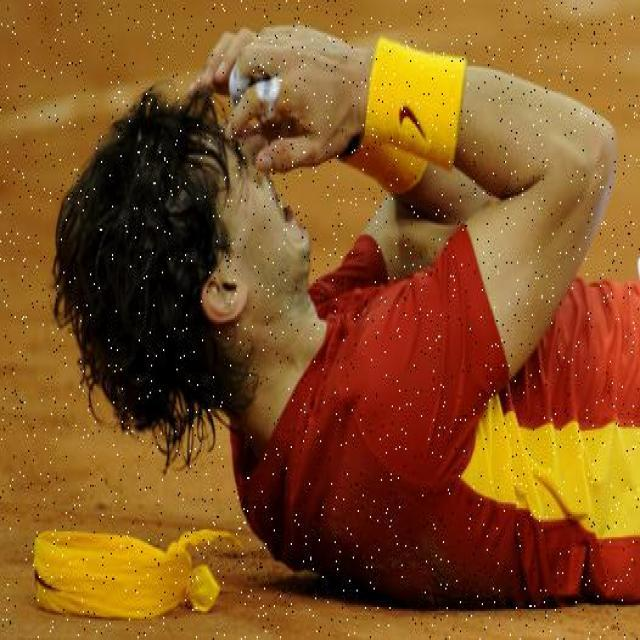fall: (112, 9, 639, 584)
